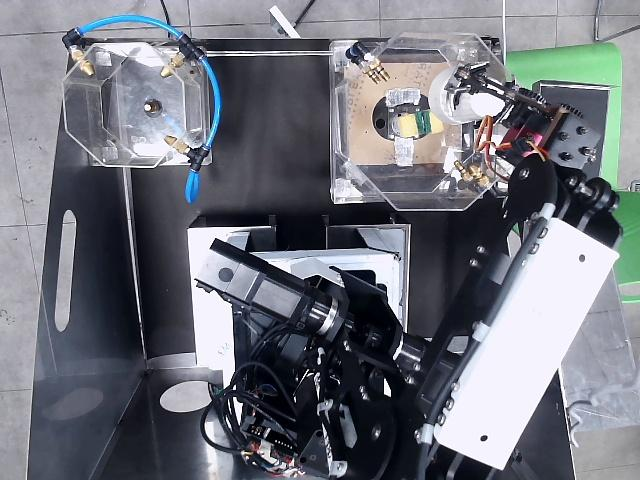cup: (429, 67, 504, 124)
